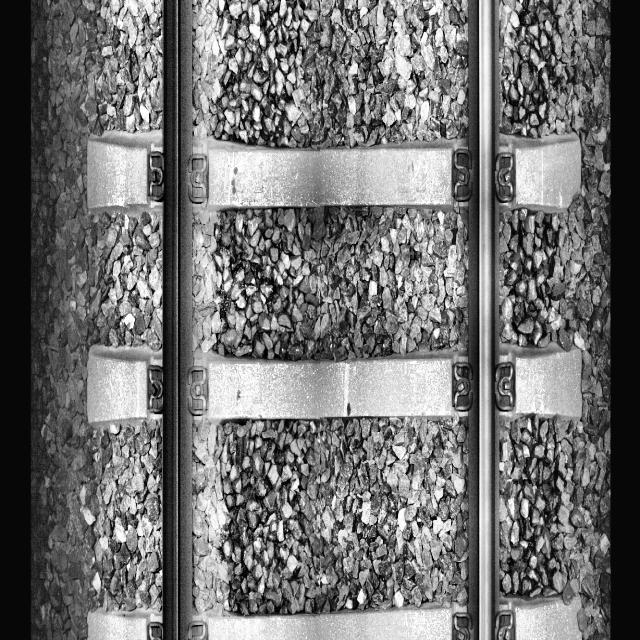Clips: (452, 147, 476, 206), (491, 357, 516, 413), (186, 364, 211, 419), (493, 148, 516, 206), (187, 154, 210, 207), (451, 362, 474, 414), (147, 360, 167, 418), (146, 152, 168, 204), (496, 608, 518, 640), (452, 610, 474, 640), (188, 617, 210, 640), (146, 619, 164, 640)
Sleepers: (85, 128, 586, 219), (84, 340, 587, 425), (85, 605, 588, 640)
